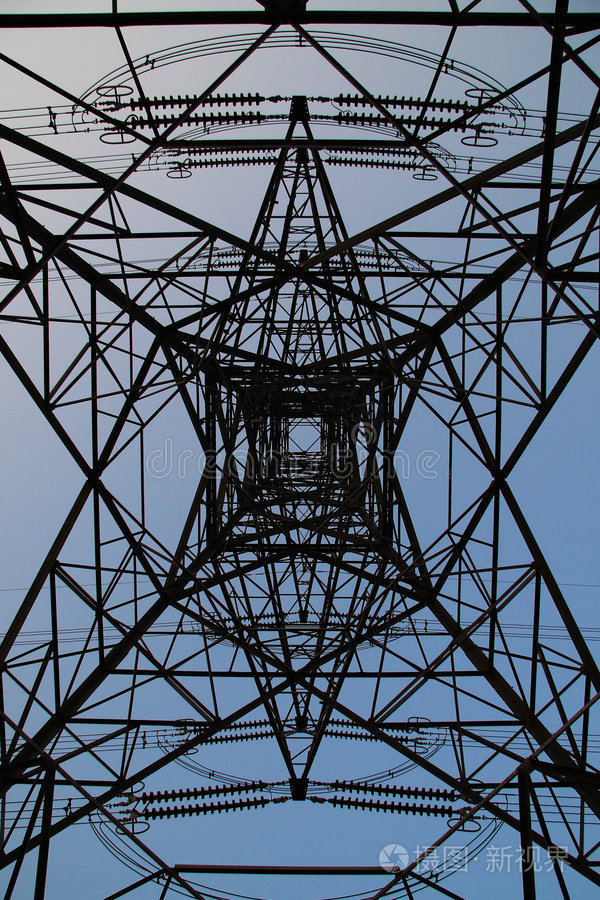insulator: (331, 89, 475, 131), (128, 89, 263, 132), (140, 780, 271, 824), (328, 774, 456, 818)
